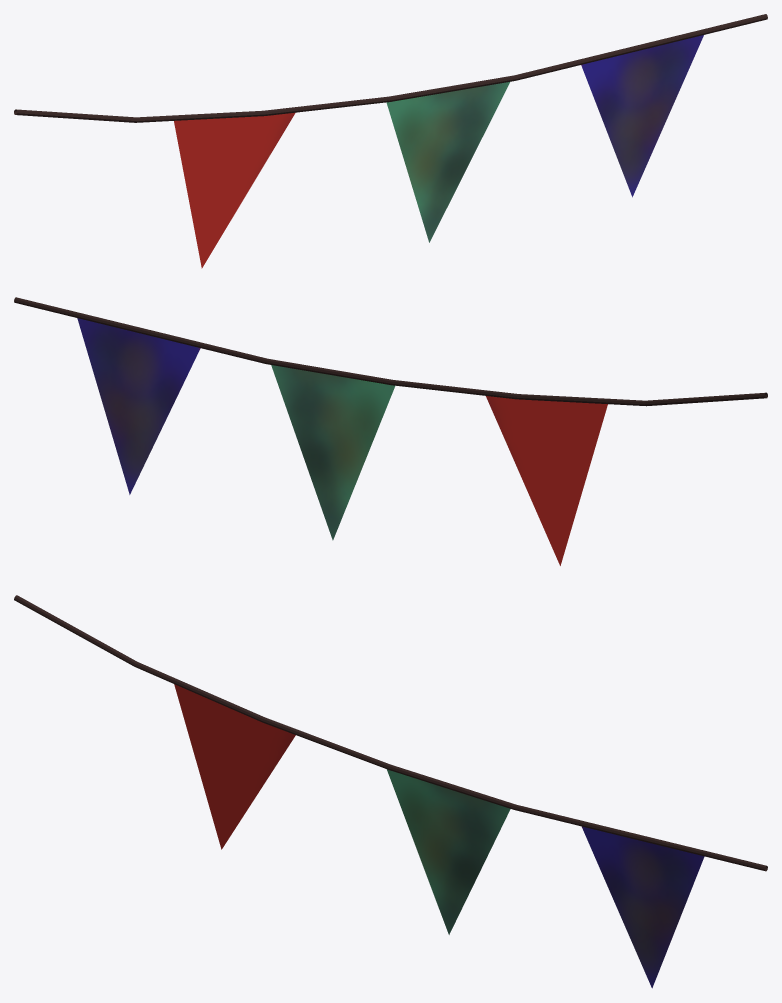
File: Prop_Left_pennats.glb
3 renders of one model, top to bottom at view 1: azimuth 30°, elevation 25°; view 2: azimuth 150°, elevation 25°; view 3: azimuth 330°, elevation 25°, orthographic.
Parts seen in each view (by area): view 1: Plane_L02, Plane._L01, Plane_L03, Rope_Left; view 2: Plane_L02, Plane_L03, Plane._L01, Rope_Left; view 3: Plane_L02, Plane_L03, Plane._L01, Rope_Left.
Part boxes in pixels (x1,y1,x2,y2): Plane_L02: [386, 82, 509, 242]; Plane._L01: [174, 112, 295, 268]; Plane_L03: [581, 35, 703, 197]; Rope_Left: [14, 14, 767, 122]; Plane_L02: [271, 365, 395, 540]; Plane_L03: [77, 318, 200, 494]; Plane._L01: [486, 396, 607, 565]; Rope_Left: [14, 297, 767, 406]; Plane_L02: [387, 769, 510, 934]; Plane_L03: [581, 826, 704, 988]; Plane._L01: [174, 684, 295, 849]; Rope_Left: [14, 595, 767, 871].
Bounding box in the file's own units: 1.5 × 0.4719 × 0.0391.
1 material, 1 textured.
